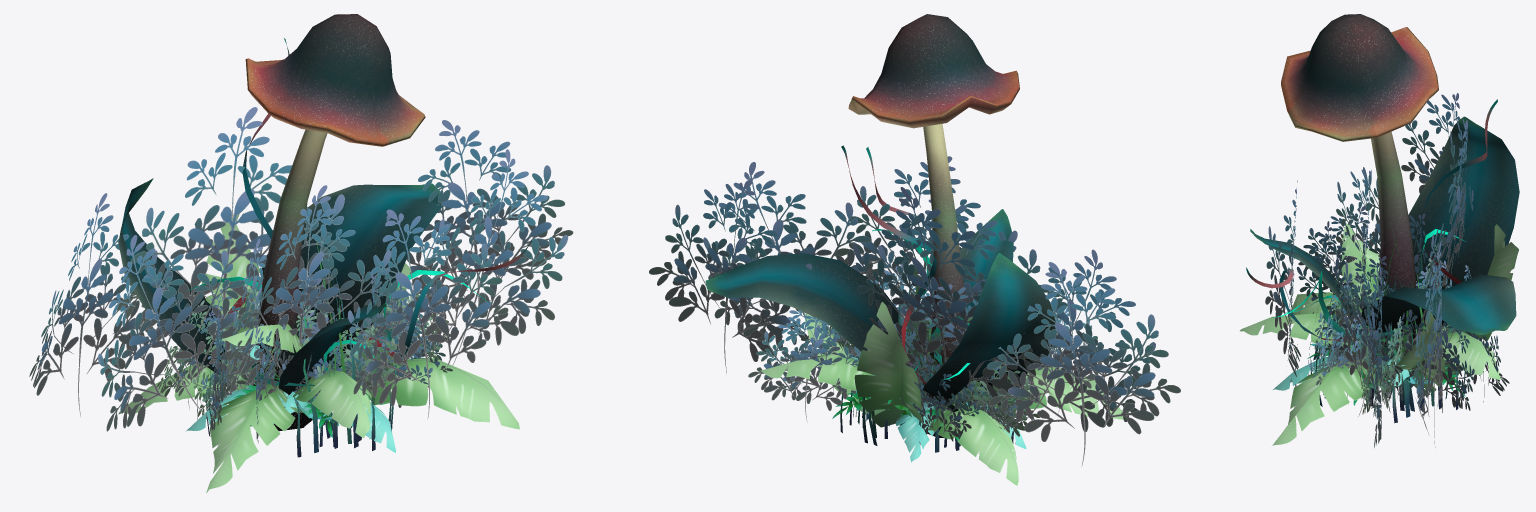
File: FantasyPlantsSet.fbx
The picture shows the model from 3 angles, left to right: view 1: azimuth 30°, elevation 25°; view 2: azimuth 150°, elevation 25°; view 3: azimuth 270°, elevation 25°; orthographic projection. The views are drawn at different scales.
Parts seen in each view (by area): view 1: Zone_03_plants09, Zone_03_plants14, Zone_03_plants13, Zone_03_plants08, Zone_03_plants07, Zone_03_plants05, Zone_03_plants04, Zone_03_plants06, Zone_03_plants12; view 2: Zone_03_plants09, Zone_03_plants14, Zone_03_plants13, Zone_03_plants08, Zone_03_plants05, Zone_03_plants07, Zone_03_plants04, Zone_03_plants12, Zone_03_plants06; view 3: Zone_03_plants14, Zone_03_plants09, Zone_03_plants13, Zone_03_plants08, Zone_03_plants05, Zone_03_plants04, Zone_03_plants07, Zone_03_plants12, Zone_03_plants06, Zone_03_plants11.
Boxes of the visible parts, box(x1,y1,x2,y2) form: Zone_03_plants09: box(29, 107, 573, 431); Zone_03_plants14: box(118, 14, 531, 431); Zone_03_plants13: box(118, 214, 519, 493); Zone_03_plants08: box(209, 238, 406, 443); Zone_03_plants07: box(156, 285, 450, 416); Zone_03_plants05: box(170, 269, 452, 421); Zone_03_plants04: box(197, 241, 396, 457); Zone_03_plants06: box(172, 296, 436, 414); Zone_03_plants12: box(186, 334, 395, 452); Zone_03_plants09: box(649, 156, 1180, 465); Zone_03_plants14: box(705, 14, 1055, 437); Zone_03_plants13: box(758, 226, 1123, 485); Zone_03_plants08: box(748, 264, 1101, 422); Zone_03_plants05: box(898, 289, 980, 447); Zone_03_plants07: box(801, 297, 1039, 436); Zone_03_plants04: box(840, 268, 1015, 452); Zone_03_plants12: box(852, 350, 1026, 462); Zone_03_plants06: box(820, 320, 1026, 432); Zone_03_plants14: box(1246, 14, 1519, 349); Zone_03_plants09: box(1265, 93, 1473, 447); Zone_03_plants13: box(1240, 223, 1518, 445); Zone_03_plants08: box(1296, 206, 1509, 410); Zone_03_plants05: box(1309, 260, 1471, 404); Zone_03_plants04: box(1295, 227, 1467, 423); Zone_03_plants07: box(1330, 244, 1440, 414); Zone_03_plants12: box(1273, 281, 1486, 390); Zone_03_plants06: box(1336, 255, 1435, 409); Zone_03_plants11: box(1307, 326, 1465, 405).
Size of the model in its own units: 666 by 478 by 307.
